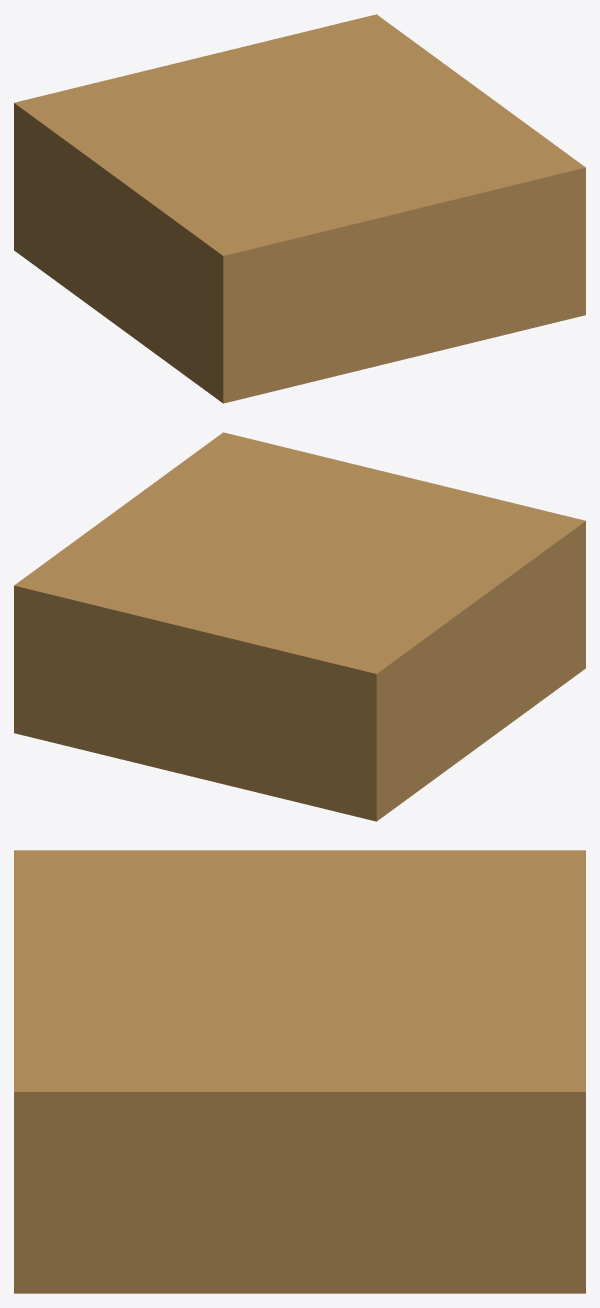
3 views of the same model, one above another, from view 1: azimuth 30°, elevation 25°; view 2: azimuth 150°, elevation 25°; view 3: azimuth 270°, elevation 25° (orthographic). The views are drawn at different scales.
Visible parts, largest first — view 1: RUN-086-S00-ribbon; view 2: RUN-086-S00-ribbon; view 3: RUN-086-S00-ribbon.
Boxes of the visible parts, x1,y1,x2,y2 form: RUN-086-S00-ribbon: (14,14,585,403); RUN-086-S00-ribbon: (14,432,585,821); RUN-086-S00-ribbon: (14,850,585,1293).
Bounding box in the file's own units: 0.09 × 0.035 × 0.09.
